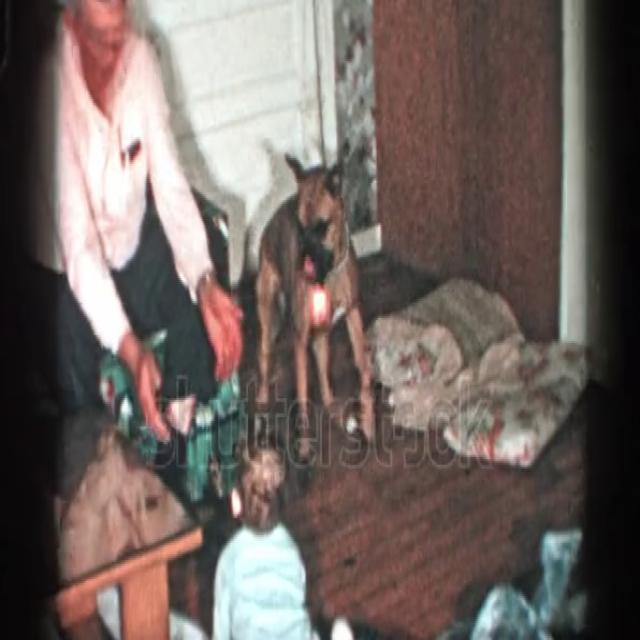normal_animals: (249, 146, 378, 464)
